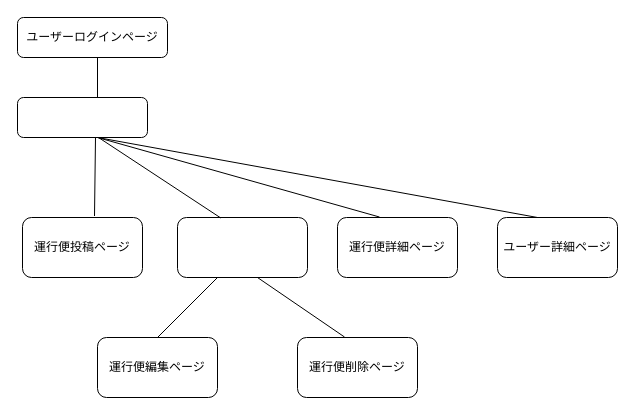
This 635x415 diagram has some shape labels left out. Here are the shapes that lost their labels. From the top down, the box of each, then its label:
(16, 96, 148, 138): 一覧ページ
(176, 216, 308, 278): 有休取得者投稿ページ
